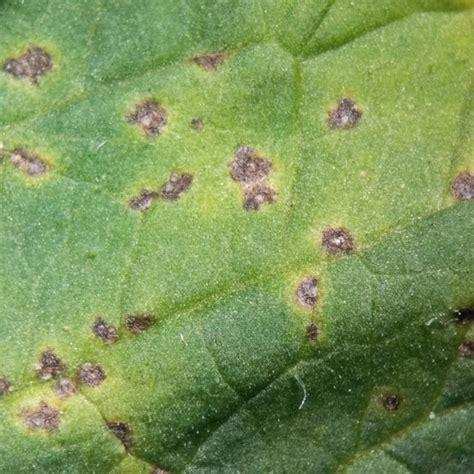black-spot: (94, 81, 292, 244)
